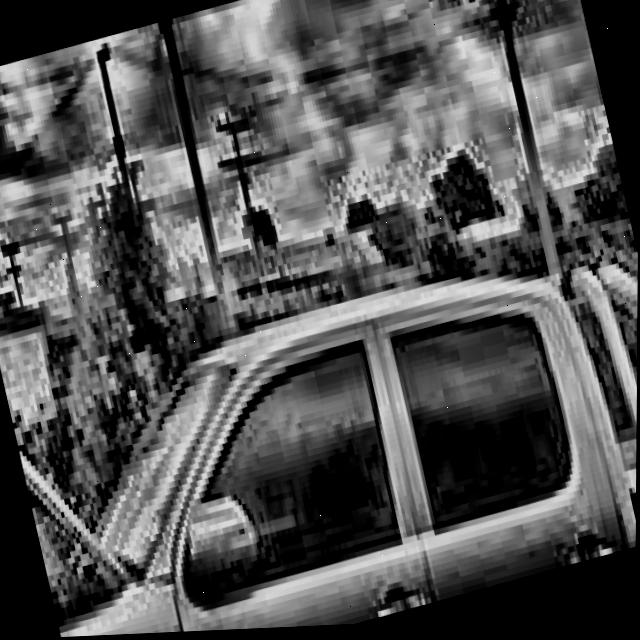light_vehicle: (0, 68, 639, 640)
